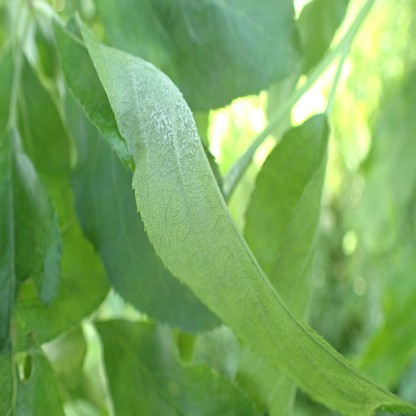powder: (130, 60, 200, 167)
